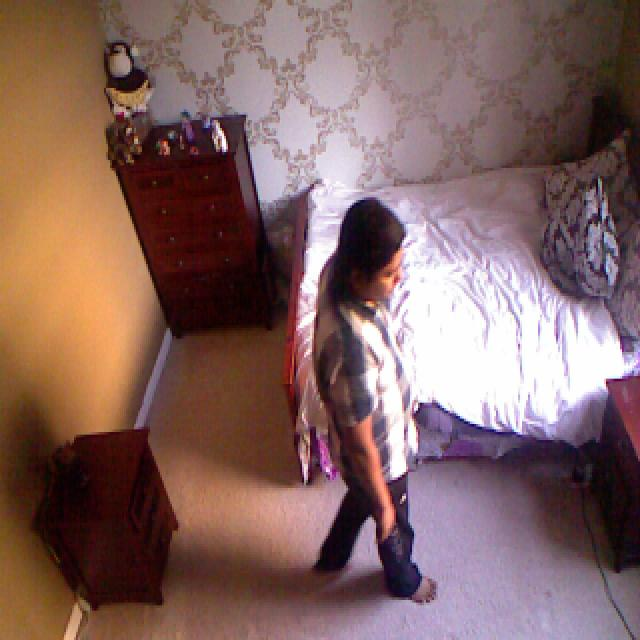standing: (294, 168, 443, 612)
